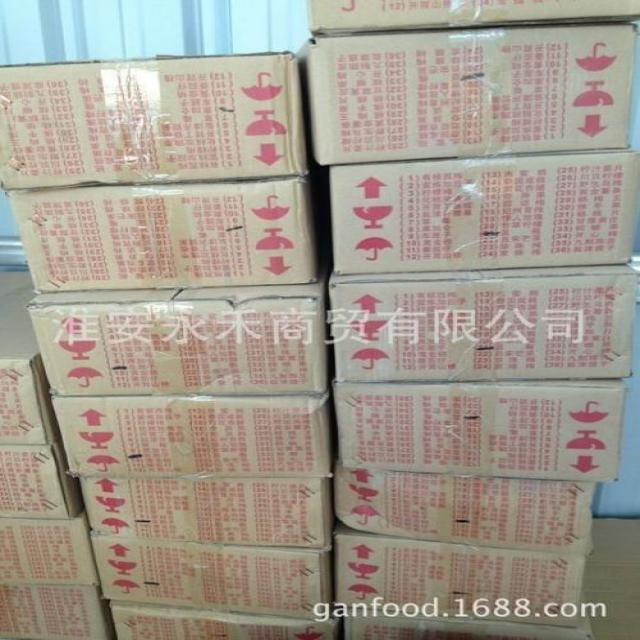box: (290, 23, 640, 166), (311, 142, 640, 267), (0, 64, 312, 187), (322, 266, 640, 386), (21, 290, 330, 400), (326, 380, 637, 483), (330, 454, 612, 558), (18, 194, 317, 291), (326, 520, 584, 622), (88, 524, 339, 622), (58, 397, 338, 480), (74, 470, 339, 554), (0, 509, 98, 587), (0, 581, 114, 640), (0, 445, 88, 512)
